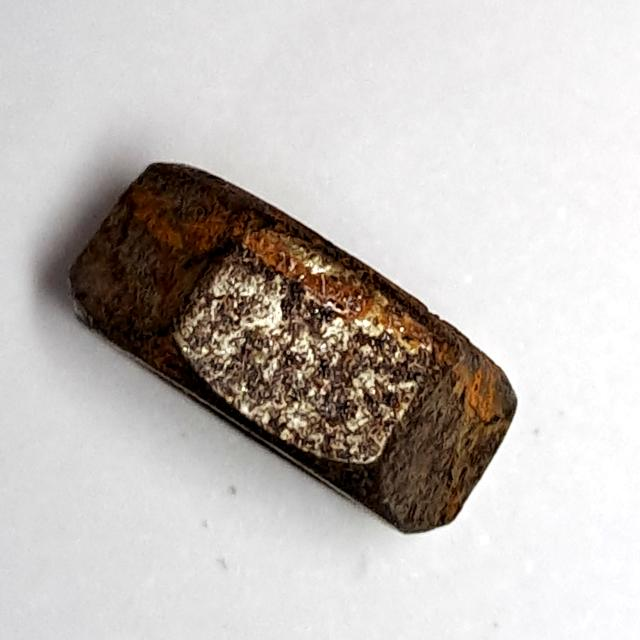Side_Rust: (60, 147, 532, 542)
